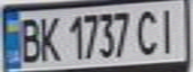1: (63, 11, 84, 61)
3: (97, 10, 118, 60)
7: (112, 8, 136, 57), (81, 10, 100, 60)
B: (15, 13, 45, 64)
C: (133, 6, 163, 56)
I: (154, 3, 184, 55)
K: (33, 12, 63, 63)
